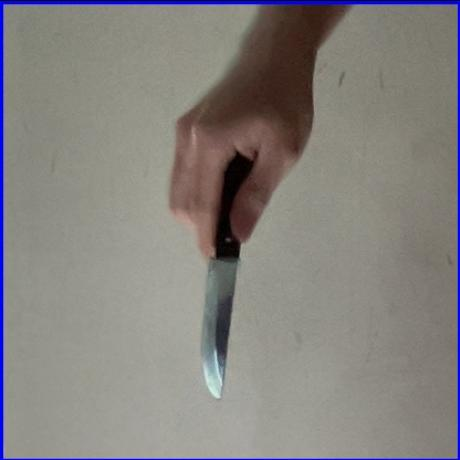1: (164, 4, 352, 262)
weapon: (195, 151, 262, 402)
